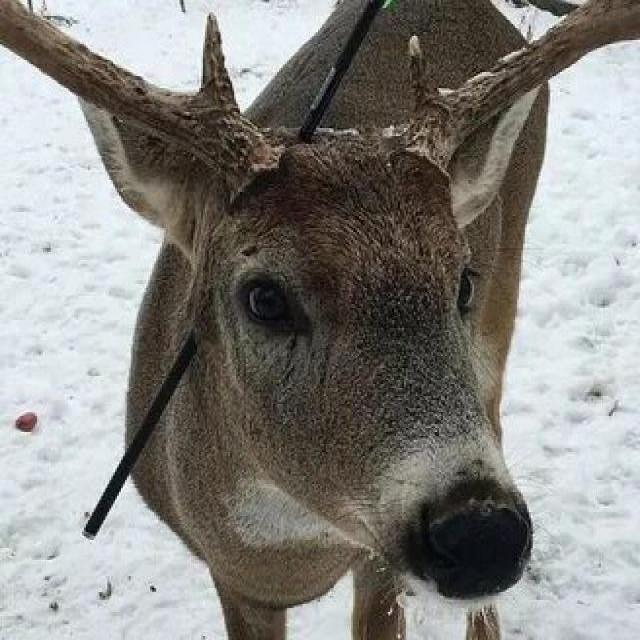deer: (65, 45, 640, 640)
